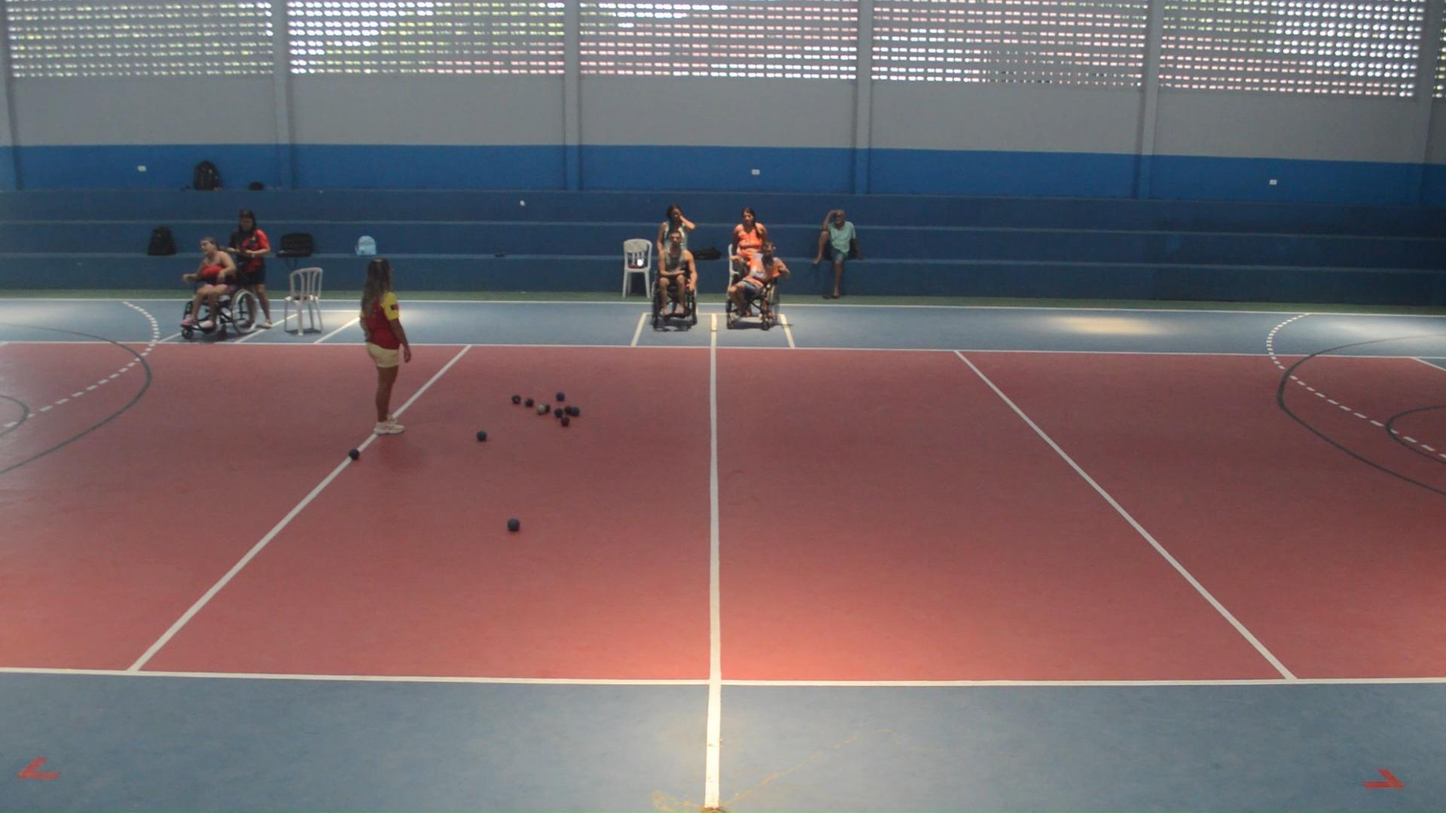blue_ball: (506, 518, 521, 533), (474, 429, 488, 443), (348, 448, 360, 461), (553, 407, 564, 419), (555, 391, 566, 402), (570, 406, 581, 417)
red_ball: (559, 416, 571, 428), (524, 397, 535, 409), (511, 394, 522, 405), (542, 402, 552, 413), (564, 405, 574, 416)
white_ball: (535, 403, 547, 416)
